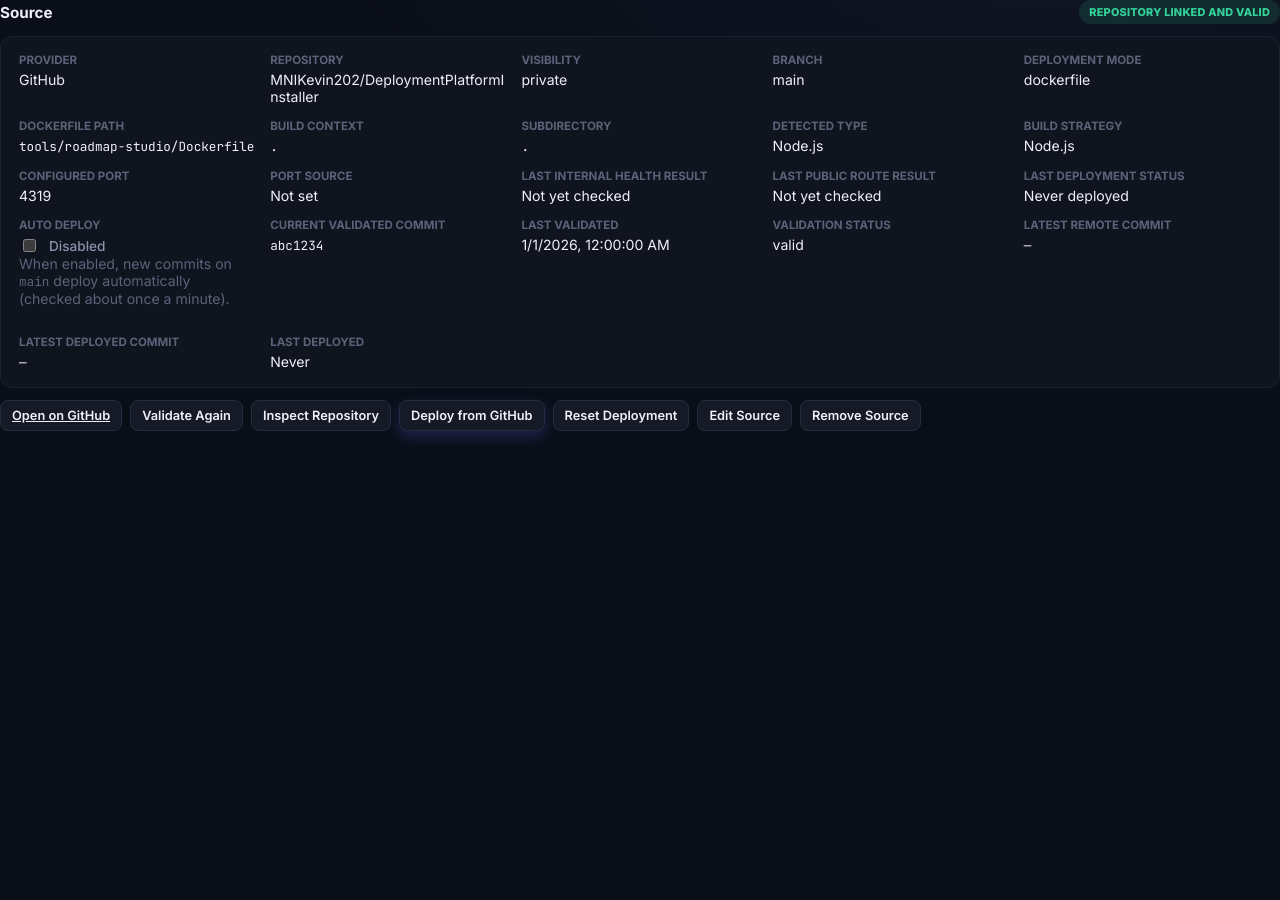
SourcePanel — manual deployment-strategy override › Edit Source preserves an existing manually-selected strategy on reopen
Expected: the text "MNIKevin202/DeploymentPlatformInstaller" is shown, [270,71,507,105]
Click the button "Edit Source".
click(745, 416)  # box [697,400,792,431]
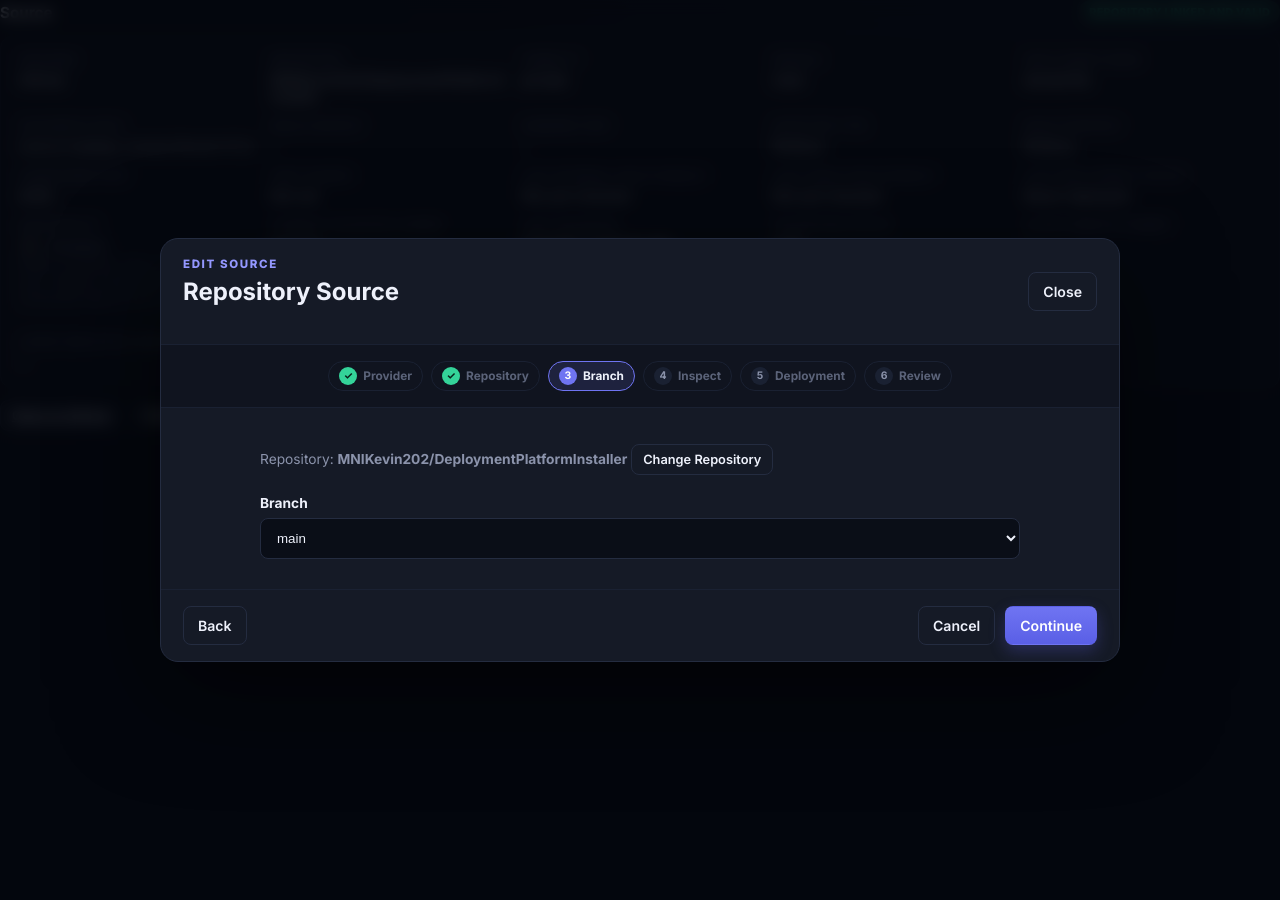
Now the text "Edit Source" is shown, box [183,257,278,271]
Click the button "Continue".
click(1051, 626)  # box [1005,606,1097,645]
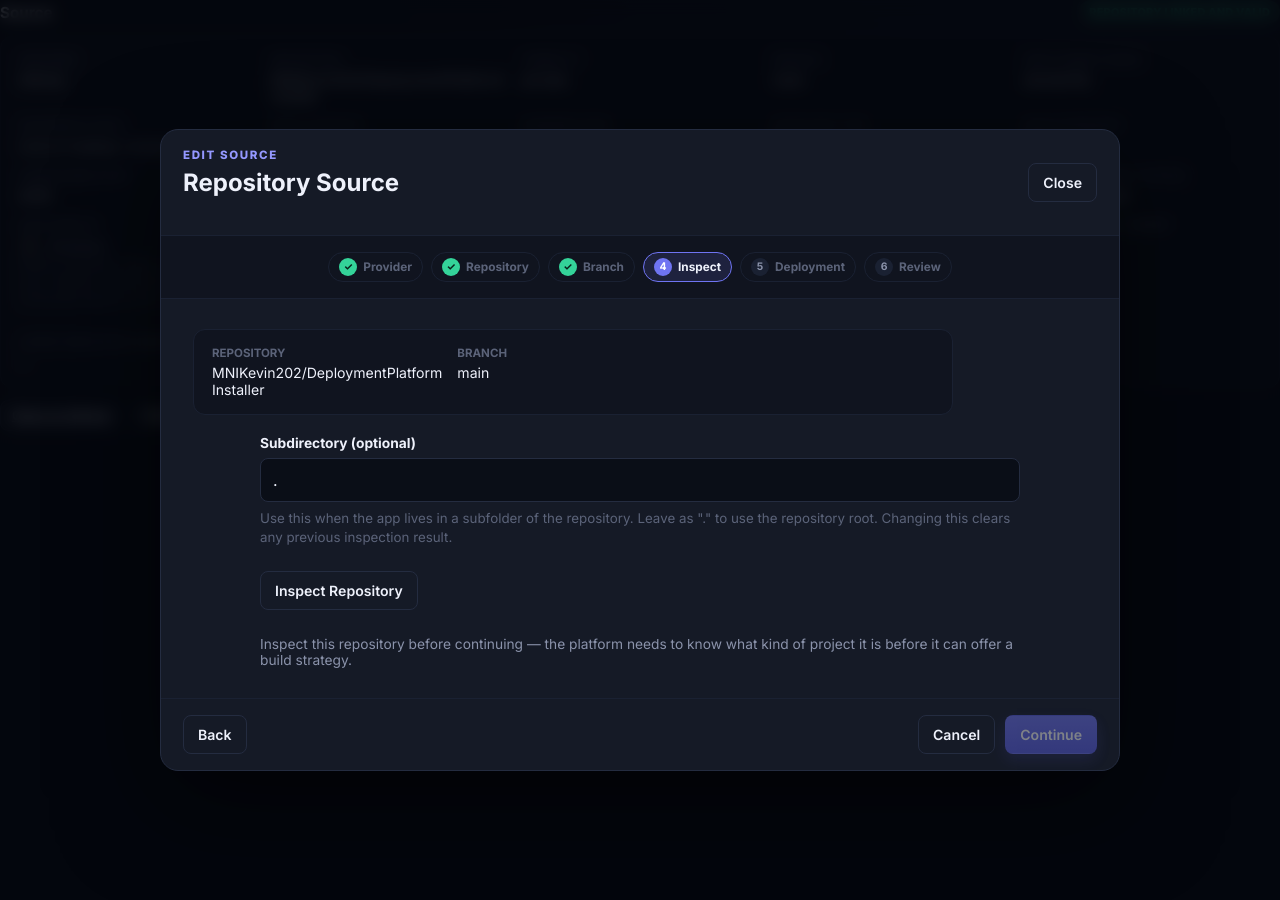
Click the button "Inspect Repository".
click(339, 591)  # box [260,571,418,610]
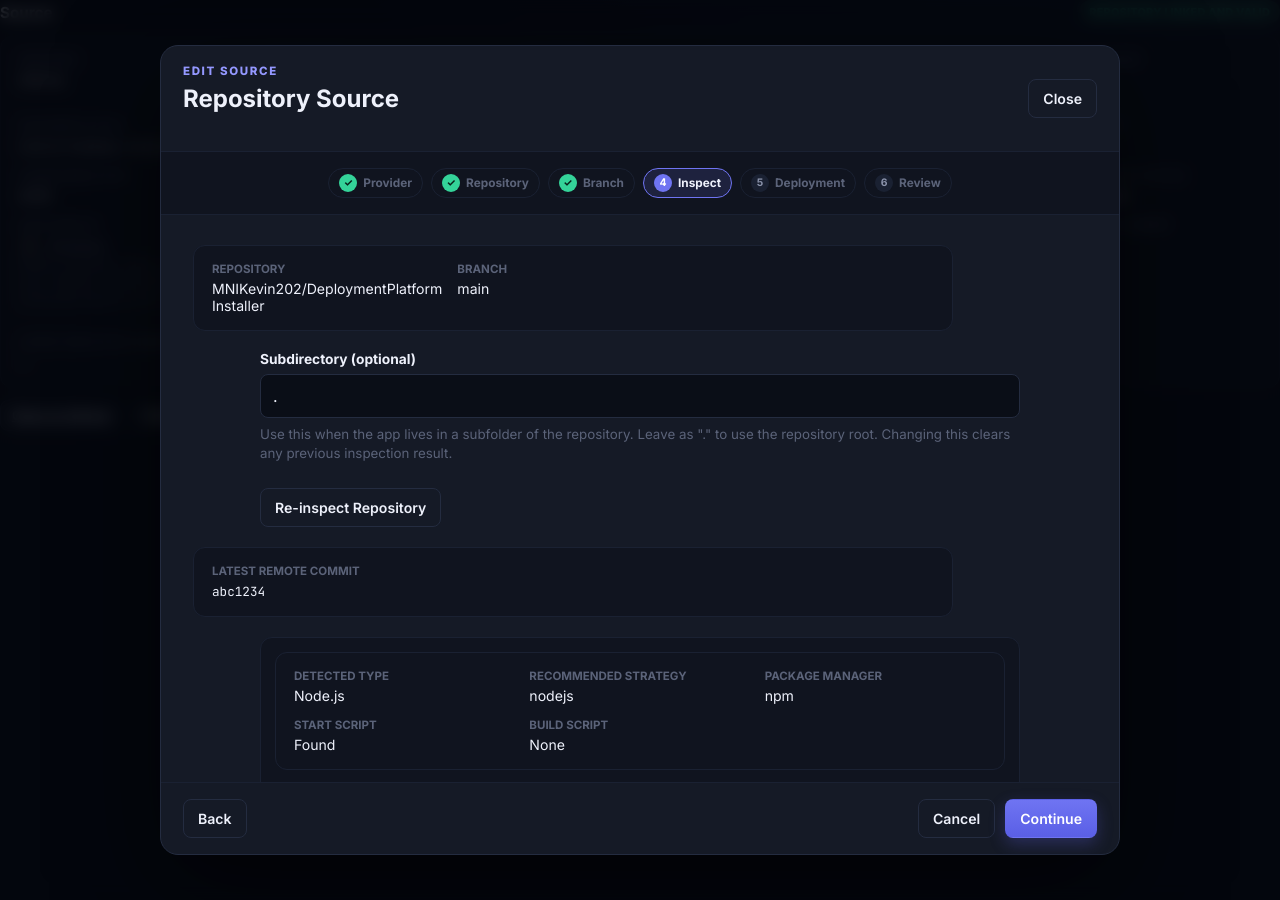
Now the text "Detected type" is shown, box [294,668,389,682]
Click the button "Continue".
click(1051, 818)  # box [1005,799,1097,838]
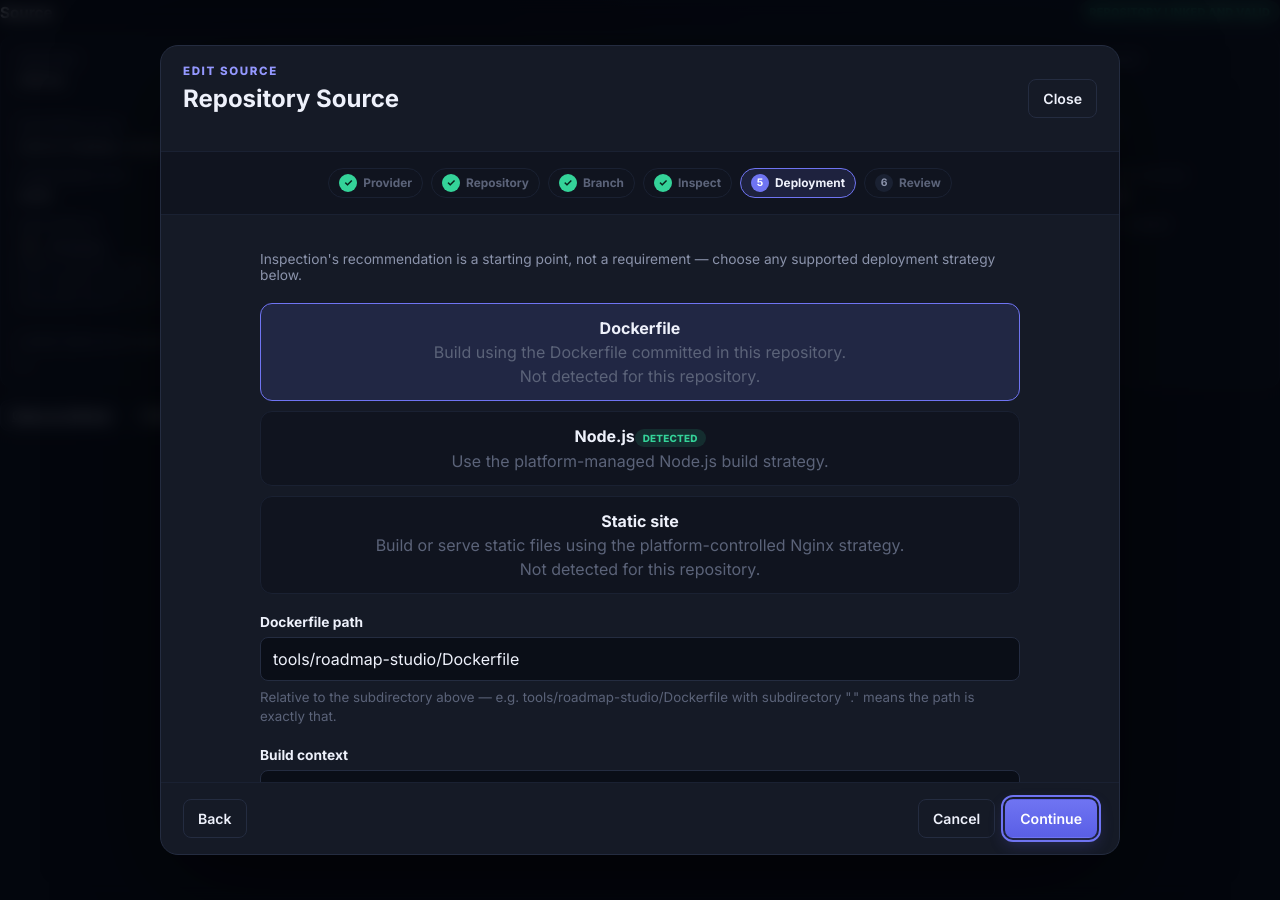
Now the field with placeholder "Dockerfile" holds "tools/roadmap-studio/Dockerfile", box [260,637,1020,681]
